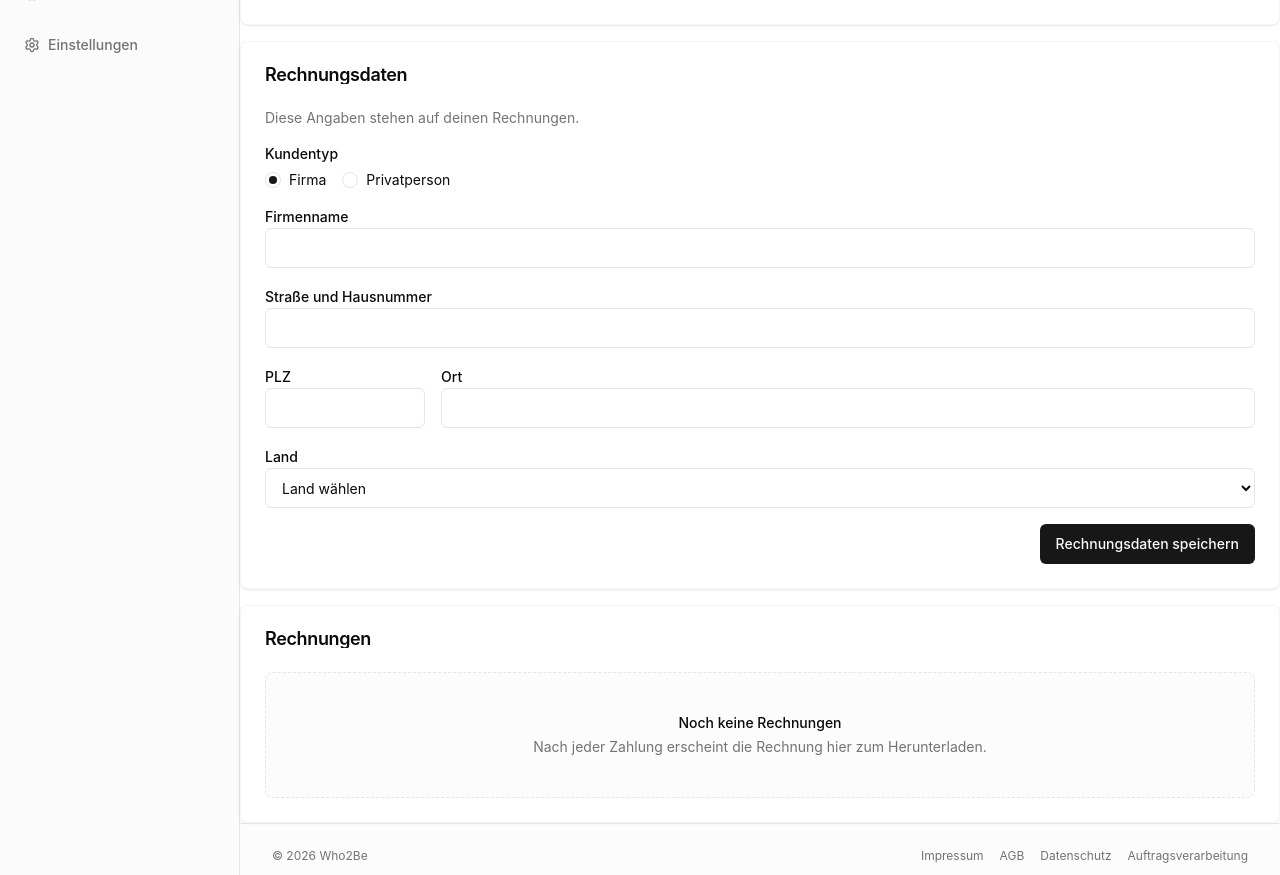
Test: BillingPanel – Rechnungsdaten › zeigt die USt-IdNr. nur fuer Firmen in der EU und prueft den Laenderpraefix
(page scrolled)
Select "CH" in the dropdown labelled "Land": [760, 488] box [265,468,1255,508]
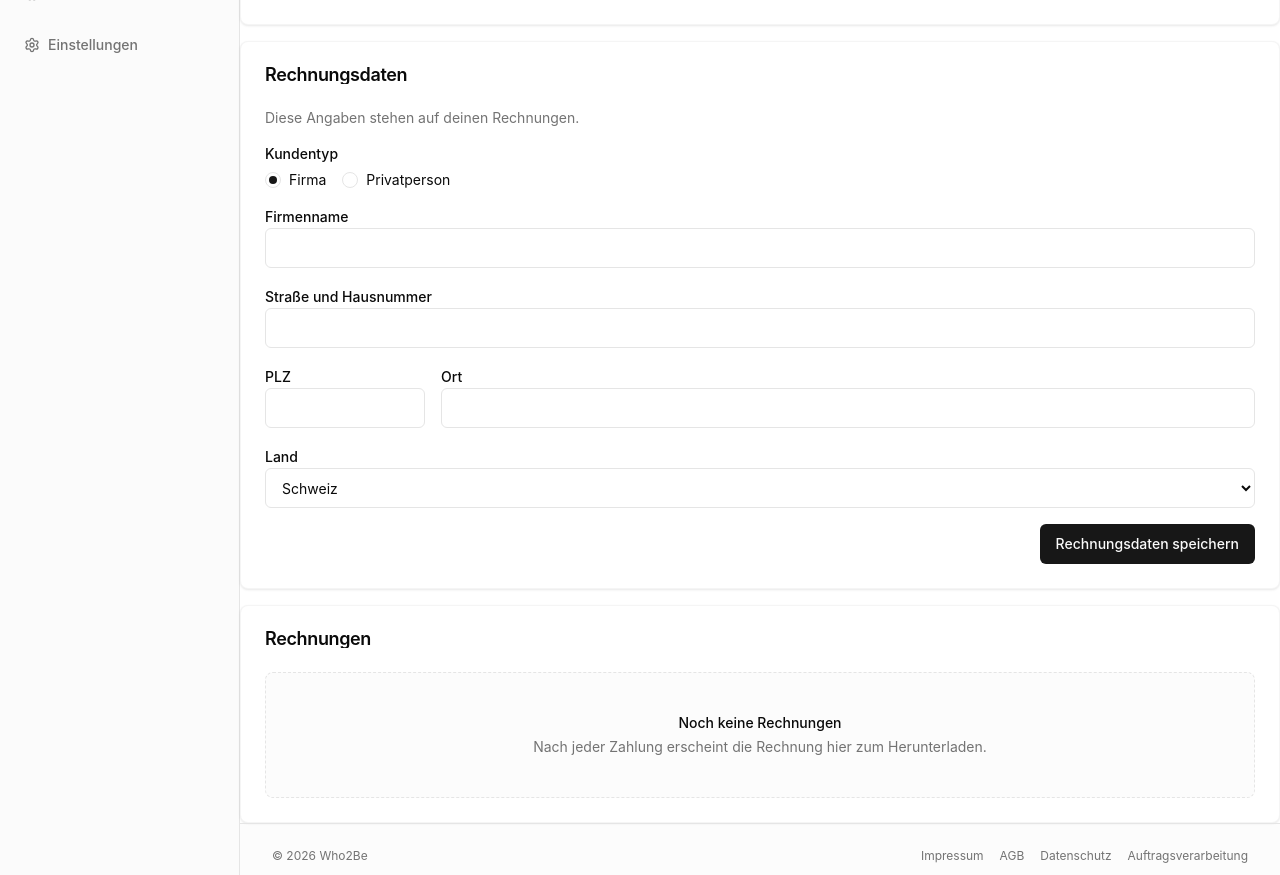
Expected: the field labelled "USt-IdNr. (optional)" is not shown
Select "Griechenland" in the dropdown labelled "Land": [760, 488] box [265,468,1255,508]
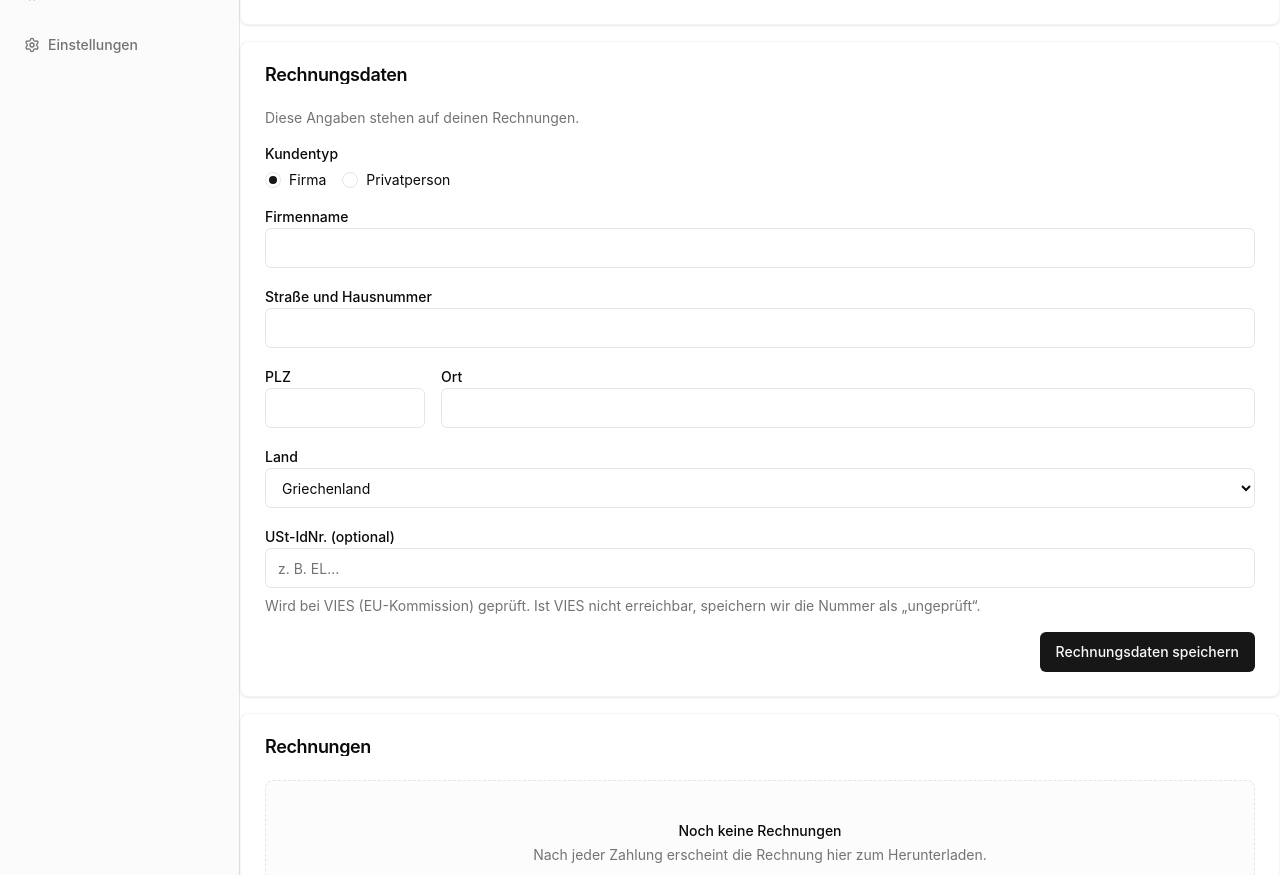
In the field labelled "Firmenname": [760, 248] box [265,228,1255,268], type "Beispiel AE"
In the field labelled "Straße und Hausnummer": [760, 328] box [265,308,1255,348], type "Odos 1"
In the field labelled "PLZ": [345, 408] box [265,388,425,428], type "10000"
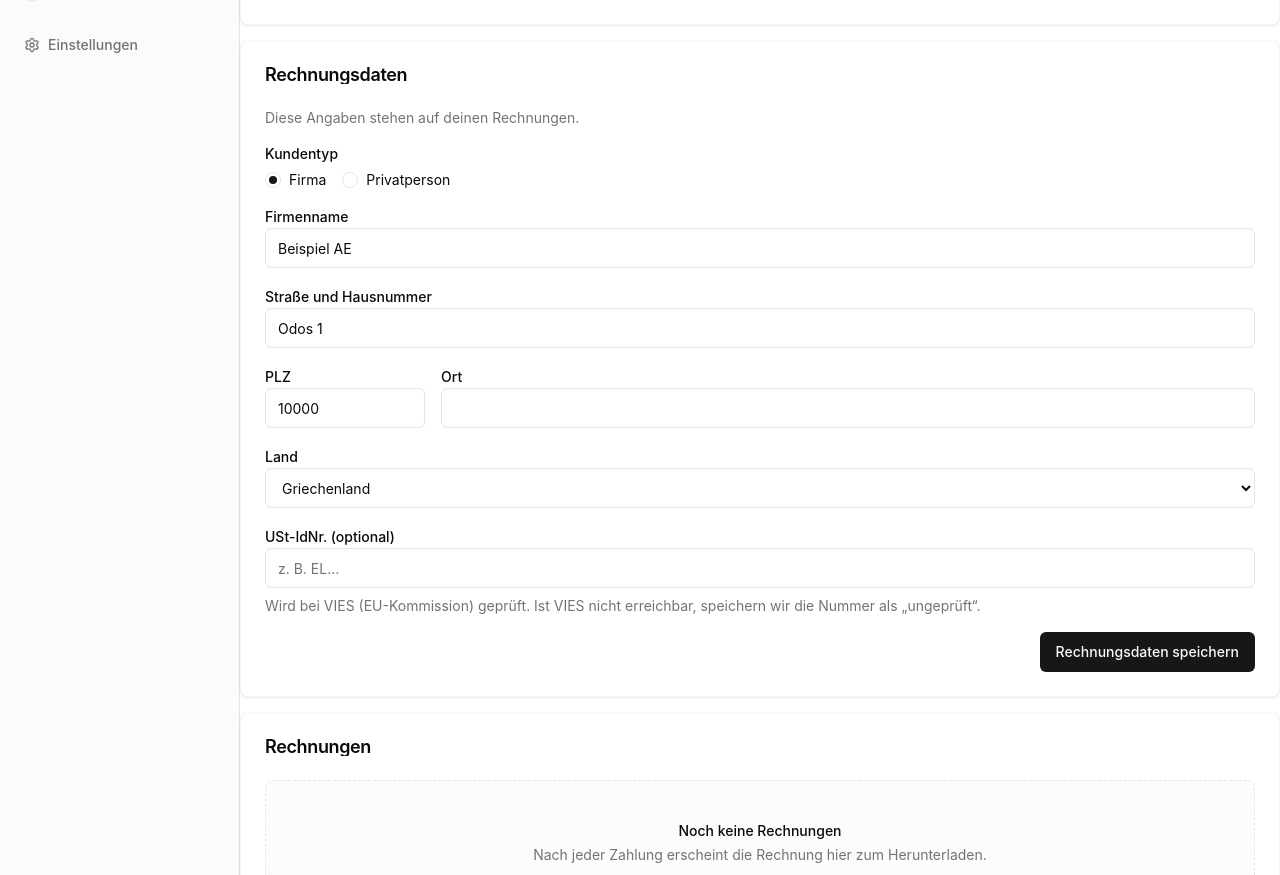
In the field labelled "Ort": [848, 408] box [441,388,1255,428], type "Musterstadt"
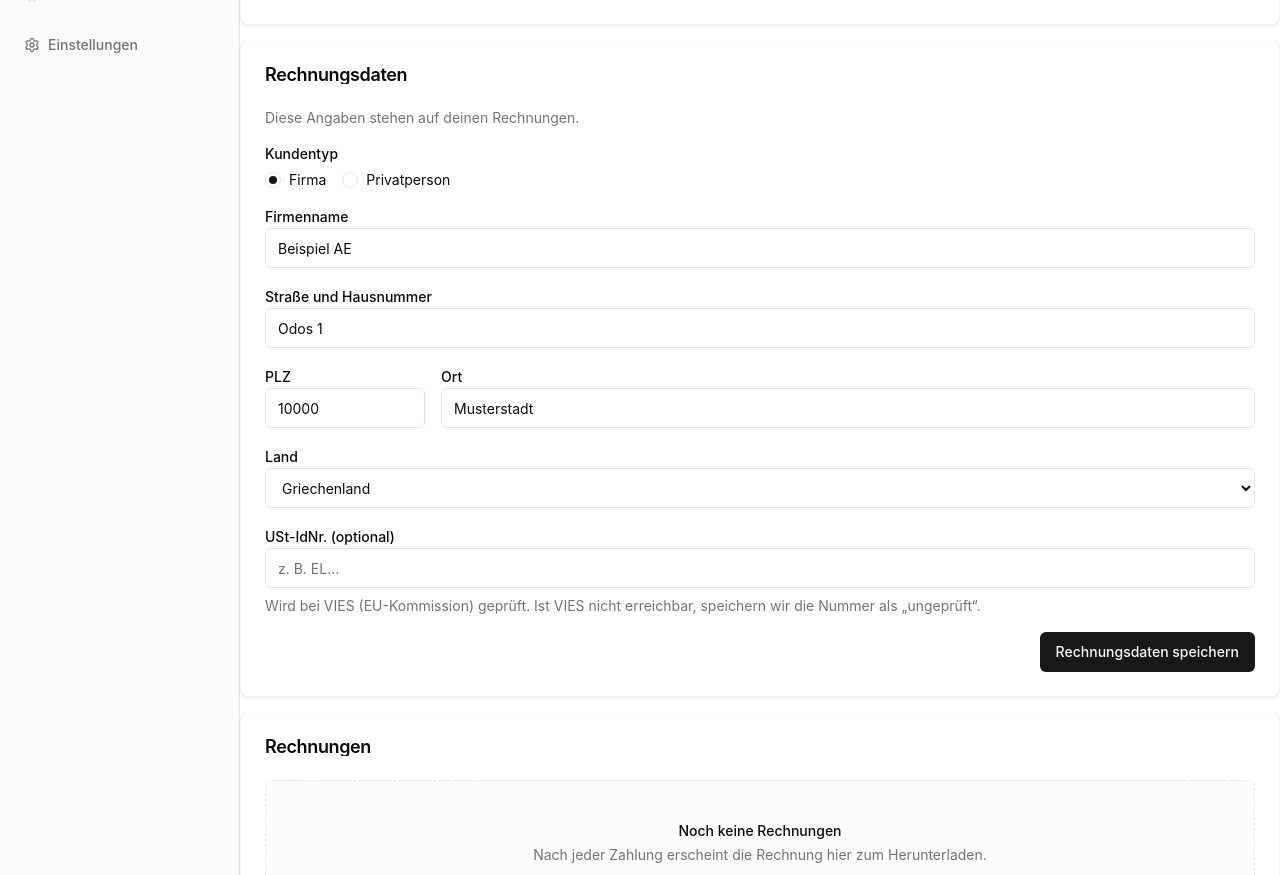
In the field labelled "USt-IdNr. (optional)": [760, 568] box [265,548,1255,588], type "GR000000000"
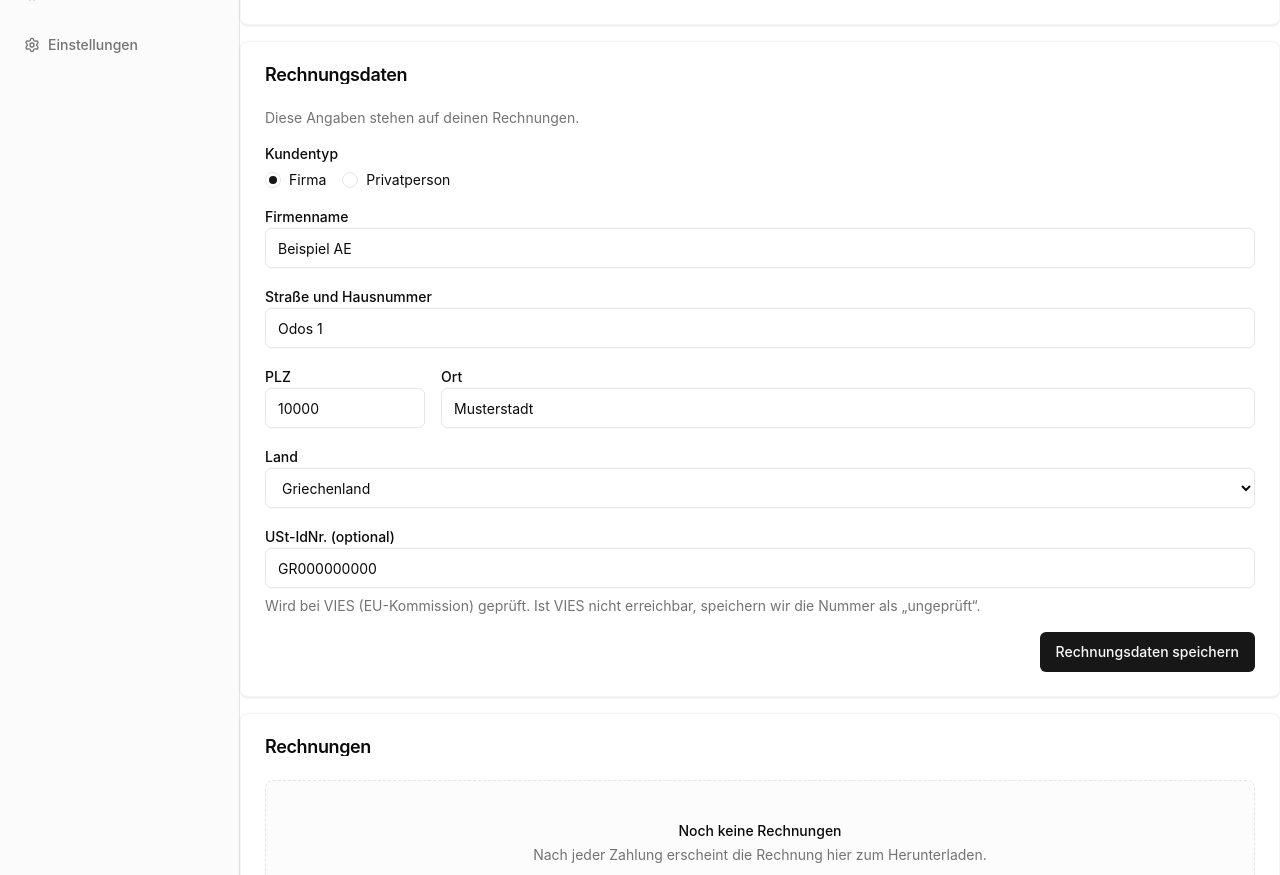
Click the button "Rechnungsdaten speichern": [1147, 652] box [1040,632,1255,672]
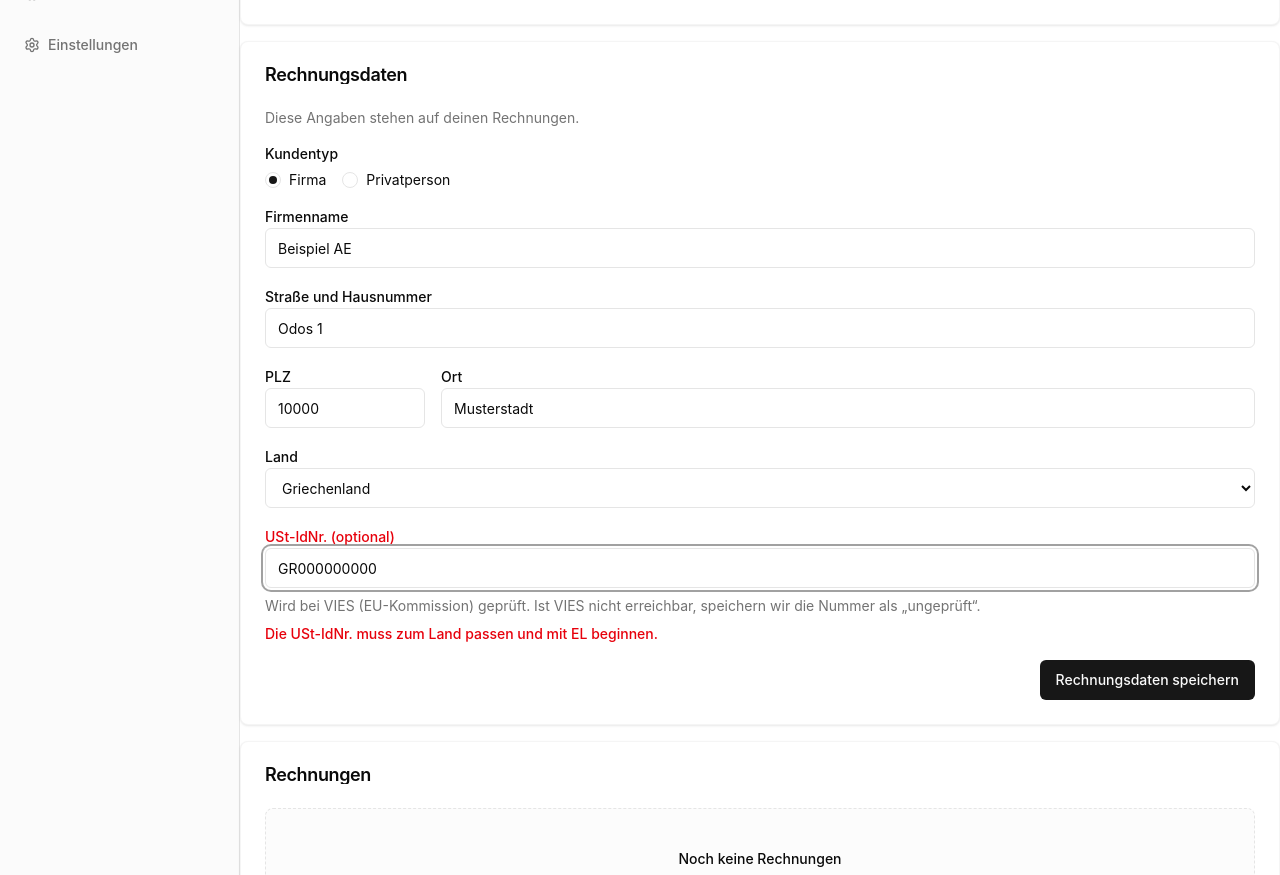
Expected: the text "Die USt-IdNr. muss zum Land passen und mit EL beginnen." is shown, [265,625,658,642]
